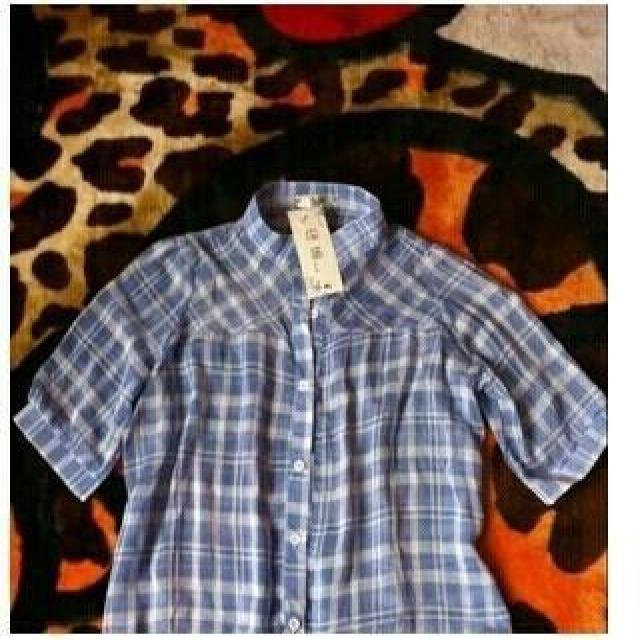long sleeve top: (16, 195, 606, 636)
